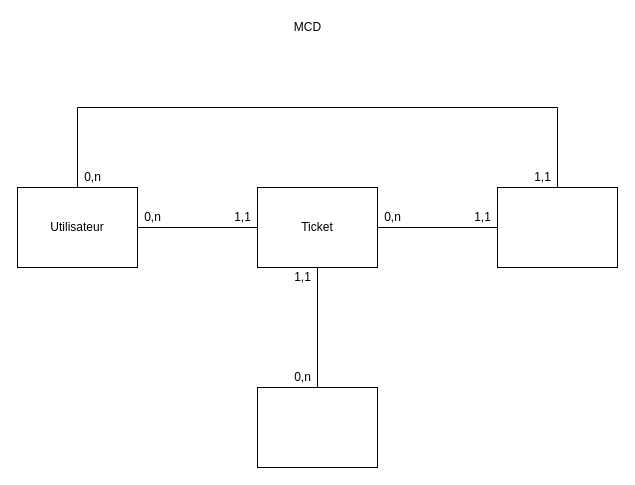
Some shapes in this 635 by 485 pixel diagram are drawn without their labels. Each missing label, with the centre of its shape:
Catégorie: the point at 317,427
Réponse: the point at 557,227
